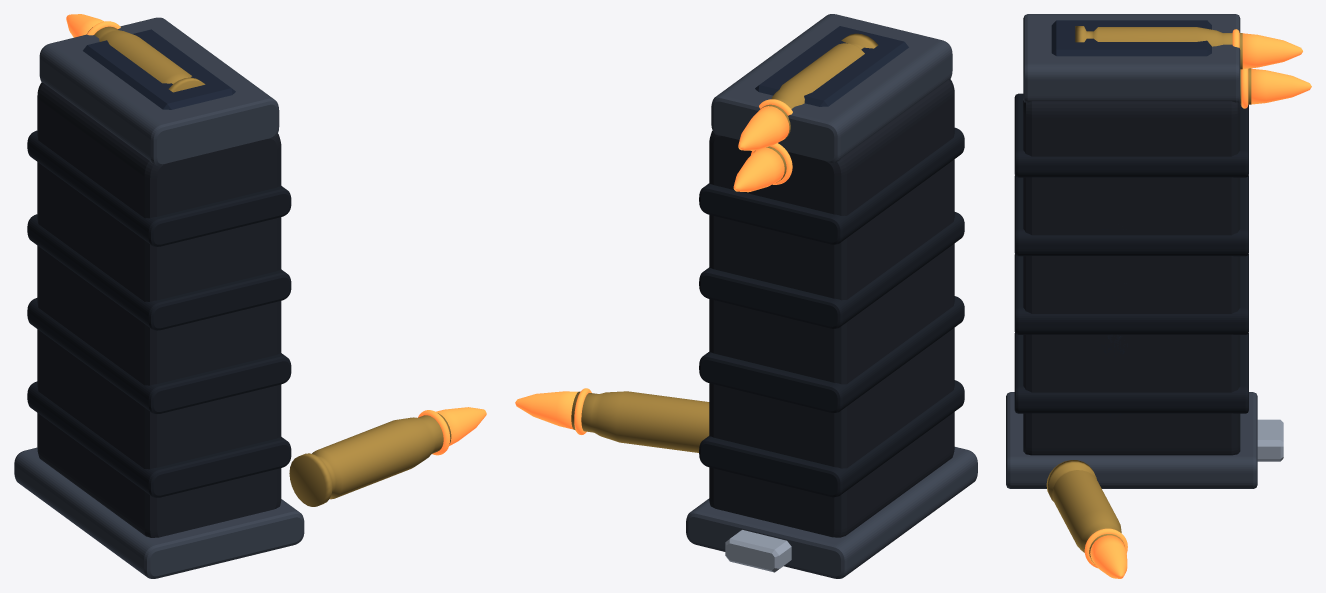
Rendered from ammo_incendiary.glb.
3 renders of one model, left to right at view 1: azimuth 30°, elevation 25°; view 2: azimuth 150°, elevation 25°; view 3: azimuth 270°, elevation 25°, orthographic. The views are drawn at different scales.
Visible parts, largest first — view 1: ammo_incendiary_mag, ammo_incendiary_lips, ammo_incendiary_base, ammo_incendiary_loose_case, ammo_incendiary_rib1, ammo_incendiary_rib0, ammo_incendiary_rib2, ammo_incendiary_rib3, ammo_incendiary_lip_cut, ammo_incendiary_top_case, ammo_incendiary_loose_tip; view 2: ammo_incendiary_mag, ammo_incendiary_lips, ammo_incendiary_base, ammo_incendiary_rib0, ammo_incendiary_rib2, ammo_incendiary_rib1, ammo_incendiary_rib3, ammo_incendiary_loose_case, ammo_incendiary_lip_cut, ammo_incendiary_top_case, ammo_incendiary_base_tab, ammo_incendiary_top_tip (+2 smaller); view 3: ammo_incendiary_mag, ammo_incendiary_lips, ammo_incendiary_base, ammo_incendiary_rib0, ammo_incendiary_rib3, ammo_incendiary_rib2, ammo_incendiary_rib1, ammo_incendiary_lip_cut, ammo_incendiary_loose_case, ammo_incendiary_top_case, ammo_incendiary_top_tip, ammo_incendiary_second_tip (+3 smaller).
Part boxes in pixels (x1,y1,x2,y2): ammo_incendiary_mag: (37, 82, 281, 537); ammo_incendiary_lips: (39, 17, 279, 165); ammo_incendiary_base: (14, 447, 304, 578); ammo_incendiary_loose_case: (289, 413, 451, 506); ammo_incendiary_rib1: (27, 298, 291, 414); ammo_incendiary_rib0: (27, 381, 291, 497); ammo_incendiary_rib2: (27, 214, 291, 330); ammo_incendiary_rib3: (27, 130, 291, 246); ammo_incendiary_lip_cut: (83, 29, 235, 109); ammo_incendiary_top_case: (87, 26, 205, 92); ammo_incendiary_loose_tip: (436, 407, 486, 445); ammo_incendiary_mag: (709, 79, 954, 537); ammo_incendiary_lips: (711, 14, 952, 163); ammo_incendiary_base: (686, 447, 977, 578); ammo_incendiary_rib0: (699, 380, 964, 497); ammo_incendiary_rib2: (699, 212, 964, 328); ammo_incendiary_rib1: (699, 296, 964, 412); ammo_incendiary_rib3: (699, 127, 964, 244); ammo_incendiary_loose_case: (571, 391, 709, 452); ammo_incendiary_lip_cut: (755, 26, 908, 106); ammo_incendiary_top_case: (759, 33, 878, 141); ammo_incendiary_base_tab: (725, 530, 791, 572); ammo_incendiary_top_tip: (738, 106, 789, 150); ammo_incendiary_mag: (1023, 100, 1240, 455); ammo_incendiary_lips: (1023, 14, 1240, 102); ammo_incendiary_base: (1006, 392, 1257, 488); ammo_incendiary_rib0: (1014, 333, 1248, 413); ammo_incendiary_rib3: (1014, 93, 1248, 177); ammo_incendiary_rib2: (1014, 175, 1248, 256); ammo_incendiary_rib1: (1014, 254, 1248, 334); ammo_incendiary_lip_cut: (1051, 20, 1211, 56); ammo_incendiary_loose_case: (1046, 460, 1124, 562); ammo_incendiary_top_case: (1075, 26, 1242, 69); ammo_incendiary_top_tip: (1242, 33, 1302, 68); ammo_incendiary_second_tip: (1251, 68, 1311, 104).
Size of the model in its own units: 0.1002 by 0.1088 by 0.0705.
